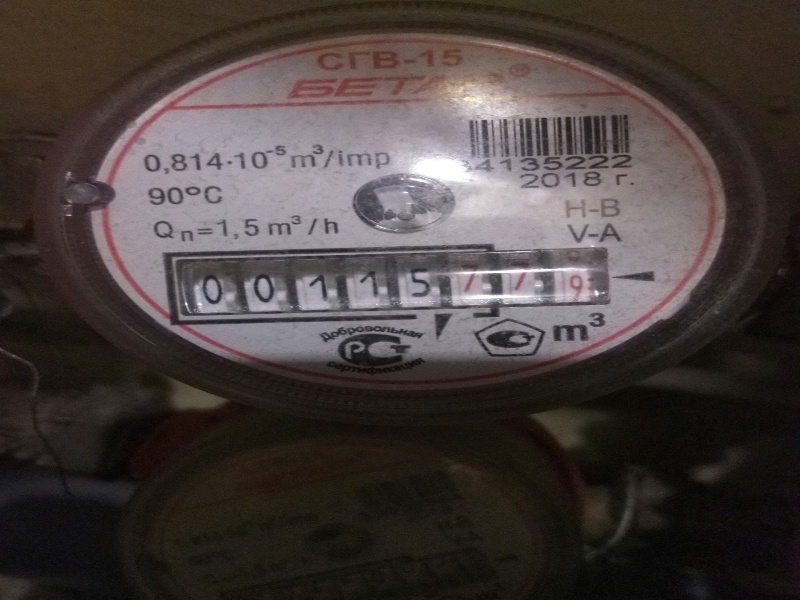dial: (163, 263, 602, 305)
